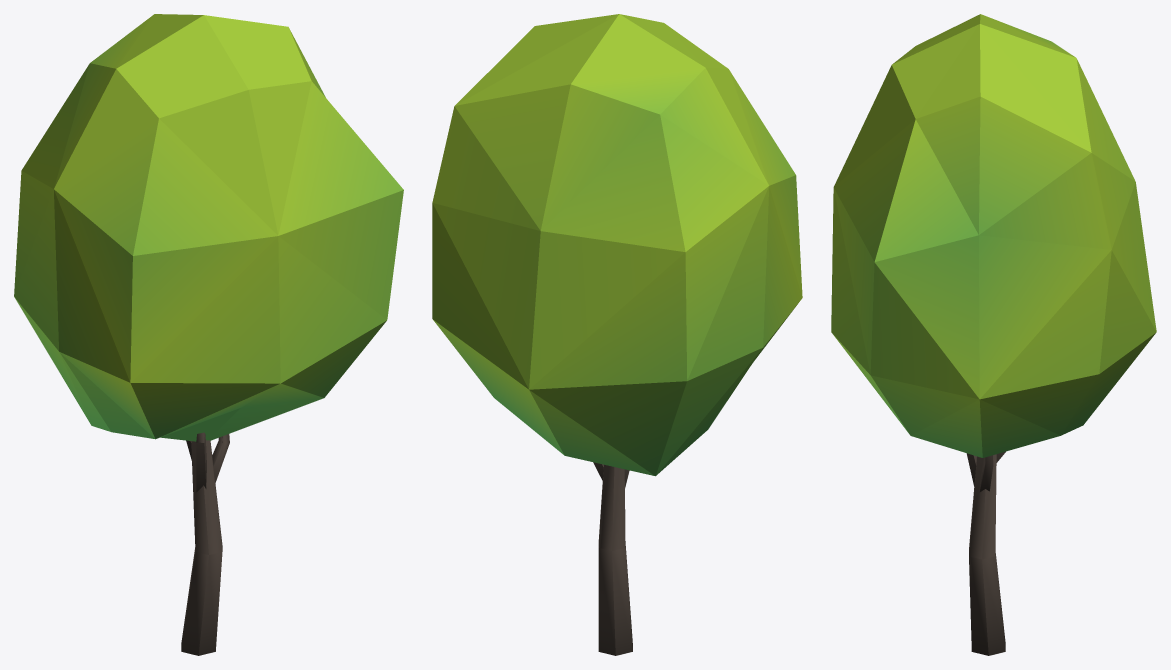
File: tree_4.FBX
3 views of the same model, side by side, from view 1: azimuth 30°, elevation 25°; view 2: azimuth 150°, elevation 25°; view 3: azimuth 270°, elevation 25° (orthographic).
Parts seen in each view (by area): view 1: tree_4; view 2: tree_4; view 3: tree_4.
Boxes of the visible parts, x1=… form: tree_4: x1=14, y1=14, x2=403, y2=655; tree_4: x1=432, y1=14, x2=802, y2=655; tree_4: x1=831, y1=14, x2=1156, y2=655.
Size of the model in its own units: 155 by 296 by 140.
